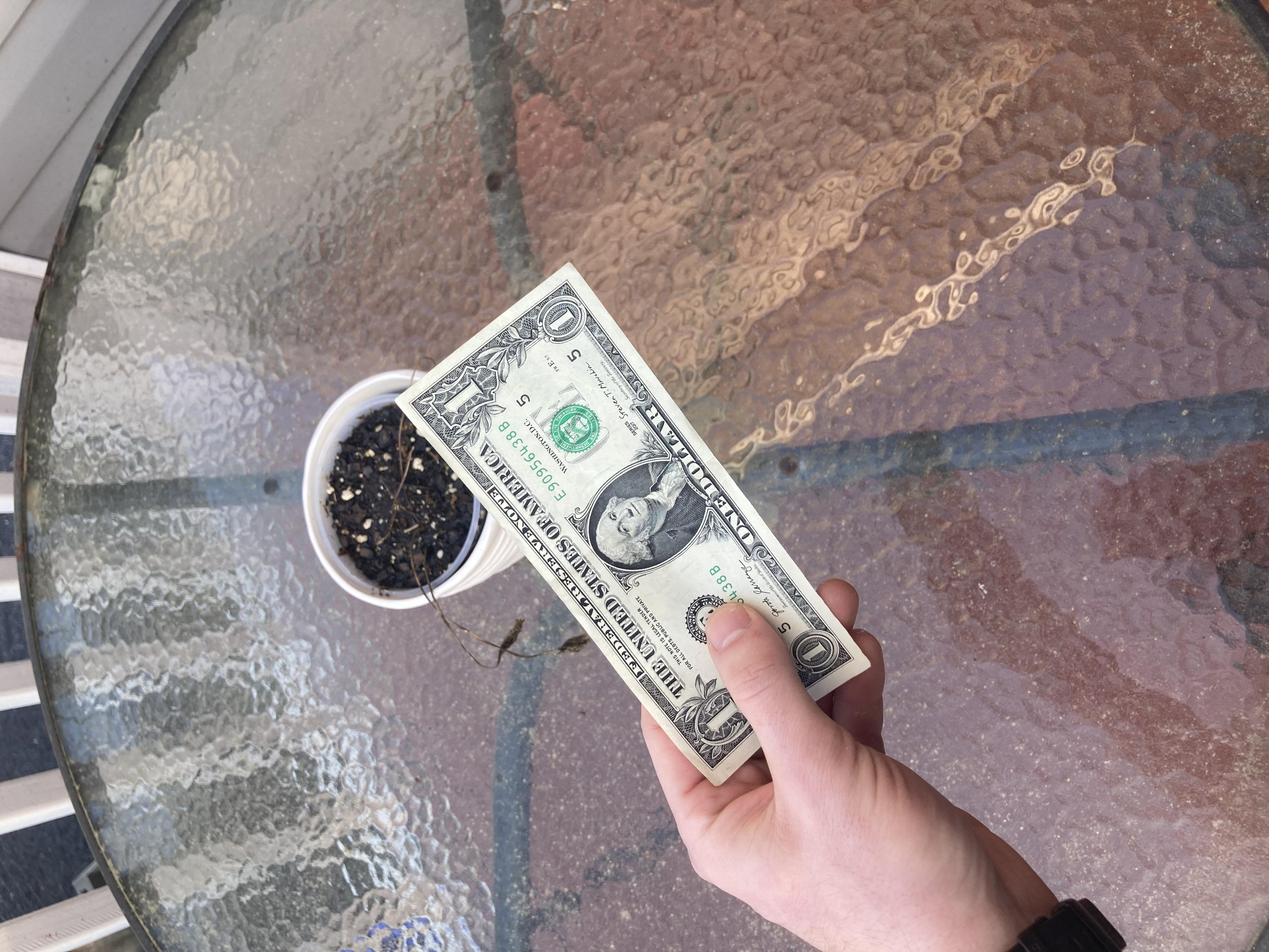one-front: (217, 296, 921, 655)
